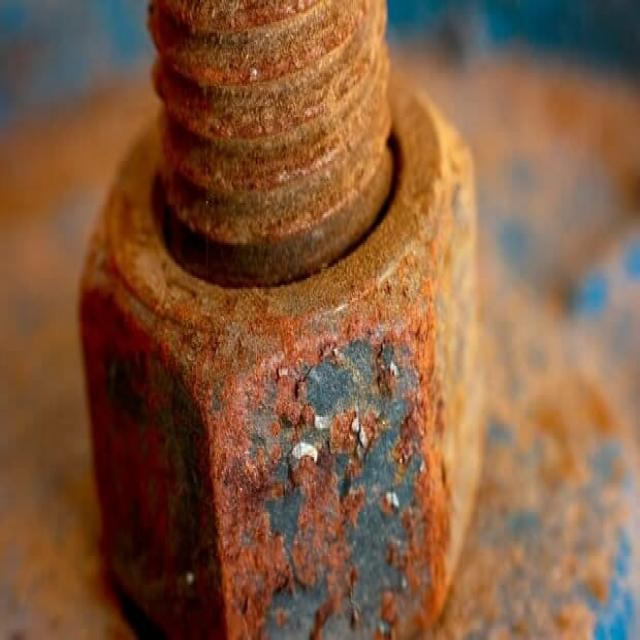Rusty bolt: (79, 61, 484, 640)
